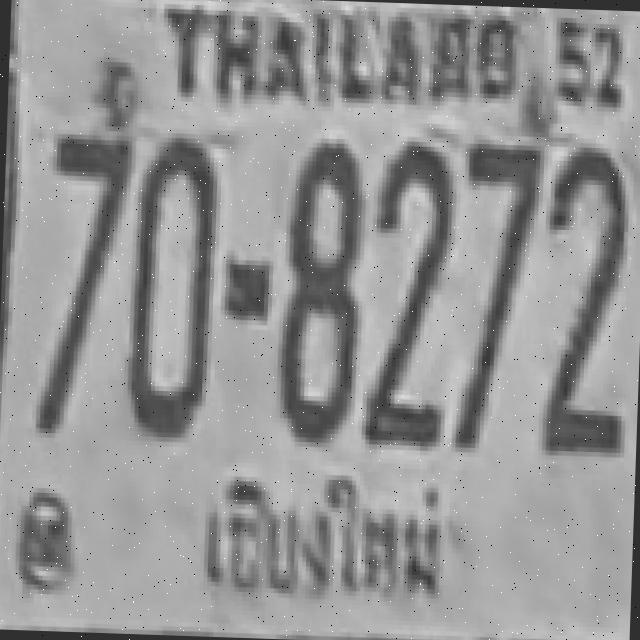0: (122, 132, 219, 429)
2: (538, 222, 628, 450), (542, 144, 628, 376), (359, 225, 445, 444), (372, 140, 454, 359)
7: (45, 131, 130, 327), (460, 138, 540, 298)
8: (274, 140, 364, 436)
ChiangMai: (193, 462, 462, 612)
